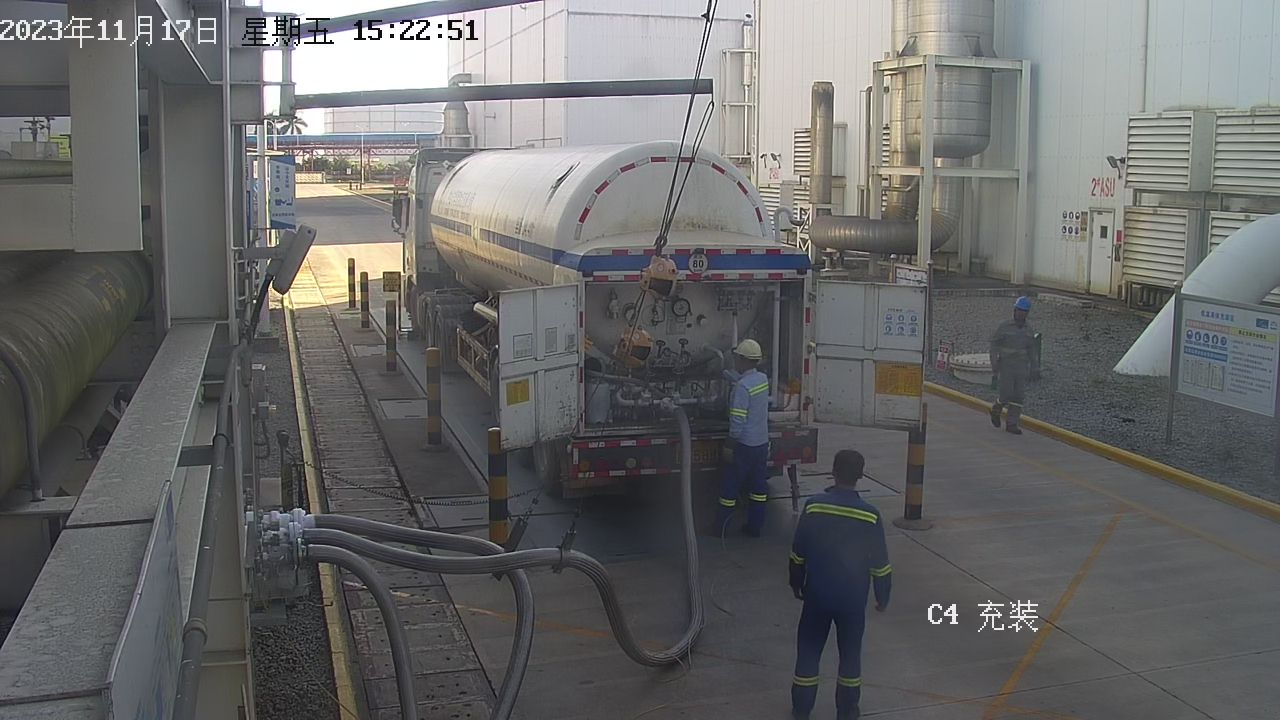Head_with_Helmet: (708, 329, 774, 384), (1003, 287, 1053, 333)
Head_without_covering: (808, 435, 874, 497)
Uniform: (784, 487, 915, 717), (695, 366, 797, 543), (986, 322, 1071, 444)
